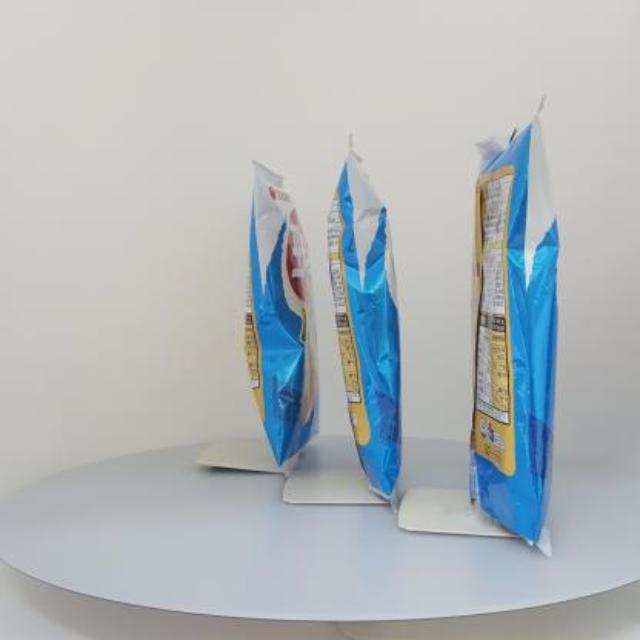snack_bag: (227, 86, 588, 558)
